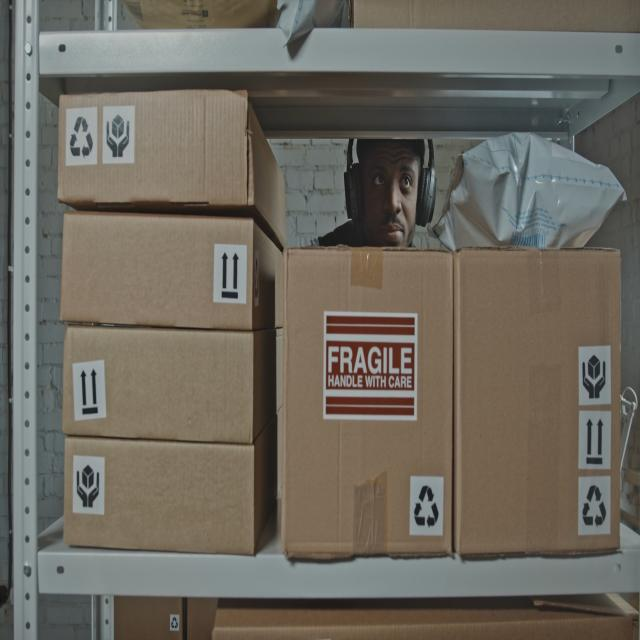counting-the-number-of-boxes: (281, 249, 452, 560), (453, 250, 619, 556), (58, 89, 286, 248), (63, 406, 282, 554), (60, 211, 283, 330), (63, 324, 282, 441)
